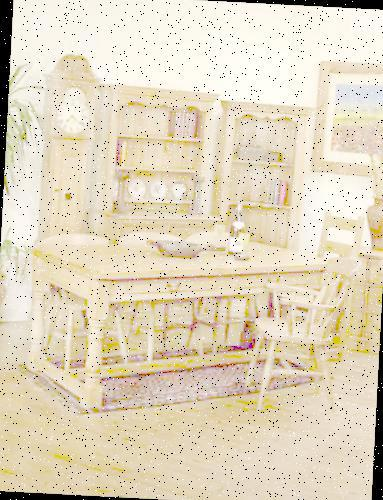Mesa: (31, 222, 327, 416)
Silla: (247, 250, 363, 413), (253, 208, 365, 372), (29, 222, 138, 373), (179, 219, 284, 372), (122, 224, 212, 377)
